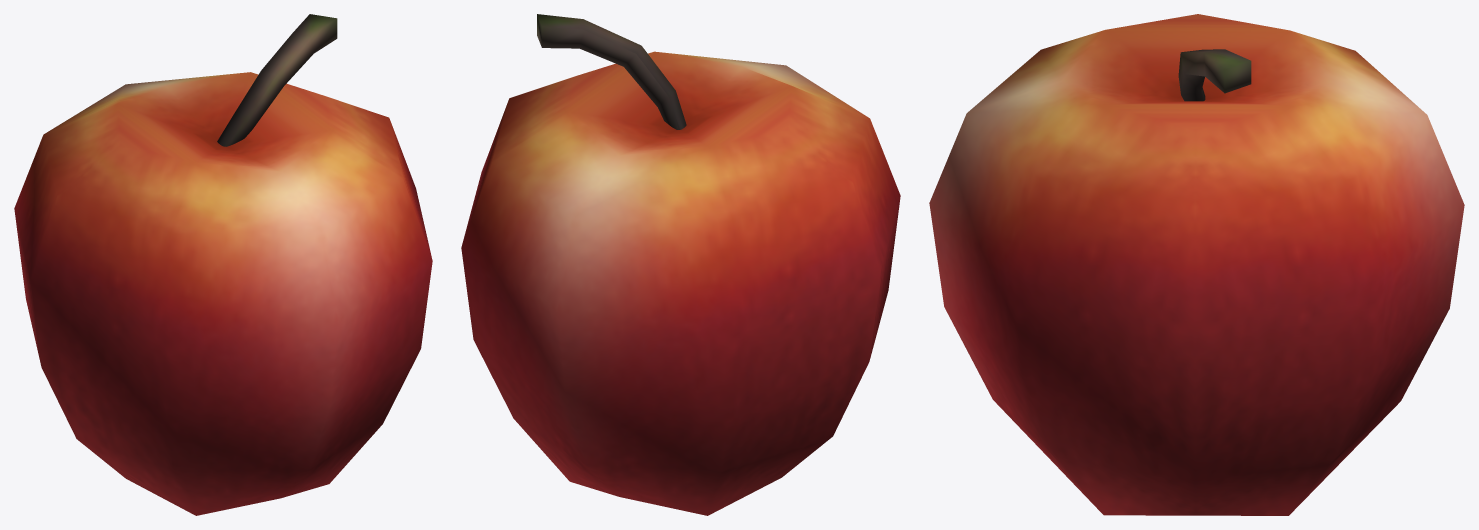
File: ShenMiRenJia_01_pingguo_01.FBX
The picture shows the model from 3 angles, left to right: view 1: azimuth 30°, elevation 25°; view 2: azimuth 150°, elevation 25°; view 3: azimuth 270°, elevation 25°; orthographic projection. The views are drawn at different scales.
Parts seen in each view (by area): view 1: ShenMiRenJia_01_pingguo_01; view 2: ShenMiRenJia_01_pingguo_01; view 3: ShenMiRenJia_01_pingguo_01.
Boxes of the visible parts, x1,y1,x2,y2 form: ShenMiRenJia_01_pingguo_01: (14,14,432,515); ShenMiRenJia_01_pingguo_01: (461,14,900,515); ShenMiRenJia_01_pingguo_01: (929,14,1464,515).
Bounding box in the file's own units: 69.58 × 71.59 × 72.43.
